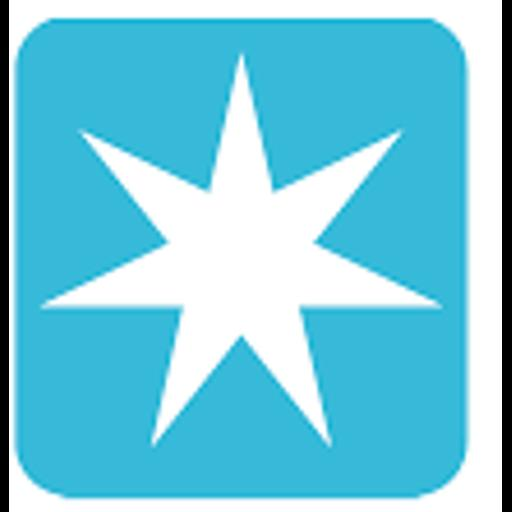Maersk: (9, 0, 502, 512)
